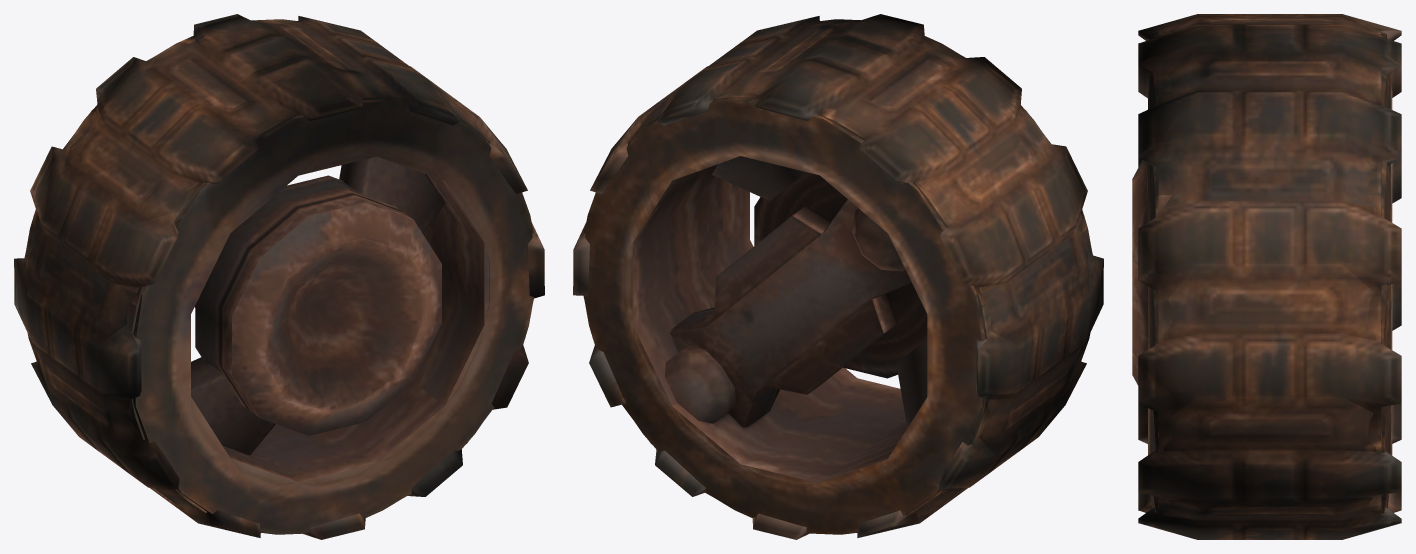
Rendered from Cheetah_WheelFrontRight.DAE.
3 views of the same model, side by side, from view 1: azimuth 30°, elevation 25°; view 2: azimuth 150°, elevation 25°; view 3: azimuth 270°, elevation 25° (orthographic). The views are drawn at different scales.
Visible parts, largest first — view 1: Tread_LOD100, Tread_LOD300, Tread_LOD200; view 2: Tread_LOD100, Tread_LOD300, Tread_LOD200; view 3: Tread_LOD300, Tread_LOD100, Tread_LOD200.
Boxes of the visible parts, box(x1,y1,x2,y2) form: Tread_LOD100: box(24, 22, 534, 532); Tread_LOD300: box(14, 14, 544, 539); Tread_LOD200: box(179, 15, 461, 467); Tread_LOD100: box(583, 22, 1092, 532); Tread_LOD300: box(573, 14, 1103, 539); Tread_LOD200: box(669, 14, 922, 539); Tread_LOD300: box(1132, 14, 1401, 539); Tread_LOD100: box(1148, 14, 1392, 520); Tread_LOD200: box(1132, 25, 1401, 538).
Size of what is drawn, in the model's own units: 1.22 by 0.6216 by 1.22.
1 material, 1 textured.
